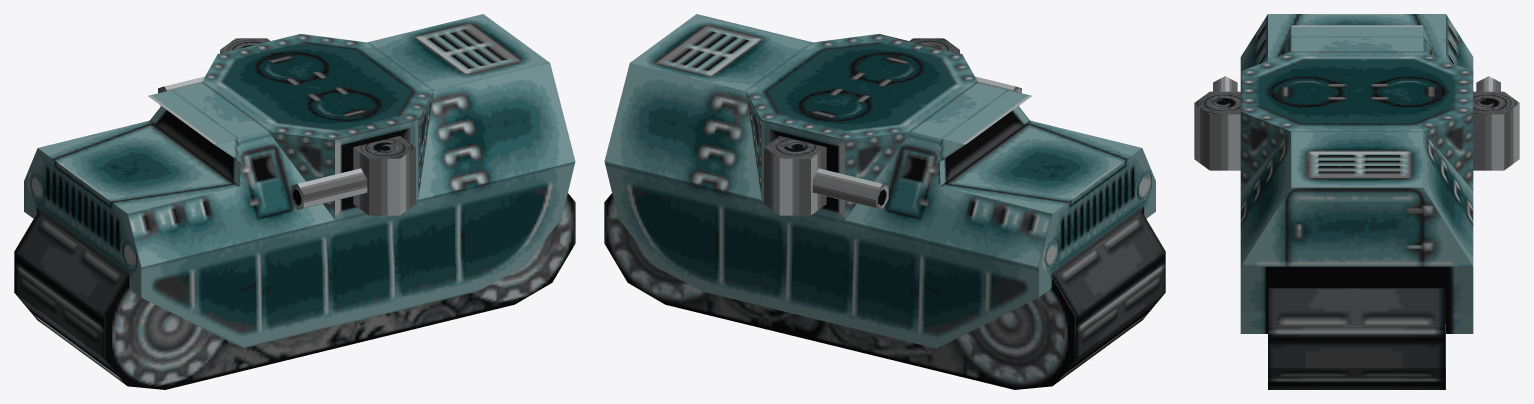
The model's file is Tank B - Textured.glb.
3 views of the same model, side by side, from view 1: azimuth 30°, elevation 25°; view 2: azimuth 150°, elevation 25°; view 3: azimuth 270°, elevation 25° (orthographic).
Parts seen in each view (by area): view 1: Hull, Treads_Sides, Treads, Cannon, Cannon.001; view 2: Hull, Treads_Sides, Treads, Cannon.001, Cannon; view 3: Hull, Treads, Cannon, Cannon.001.
Part boxes in pixels (<box>): Hull: <box>24,14,575,348</box>; Treads_Sides: <box>104,193,575,389</box>; Treads: <box>14,212,127,385</box>; Cannon: <box>291,136,415,215</box>; Cannon.001: <box>158,38,270,105</box>; Hull: <box>604,14,1155,348</box>; Treads_Sides: <box>604,193,1075,389</box>; Treads: <box>1052,212,1165,385</box>; Cannon.001: <box>764,136,888,215</box>; Cannon: <box>909,38,1021,105</box>; Hull: <box>1240,14,1473,333</box>; Treads: <box>1268,288,1445,389</box>; Cannon: <box>1194,76,1240,170</box>; Cannon.001: <box>1473,76,1519,170</box>.
Bounding box in the file's own units: 3.47 × 1.56 × 2.1.
5 materials, 4 textured.
